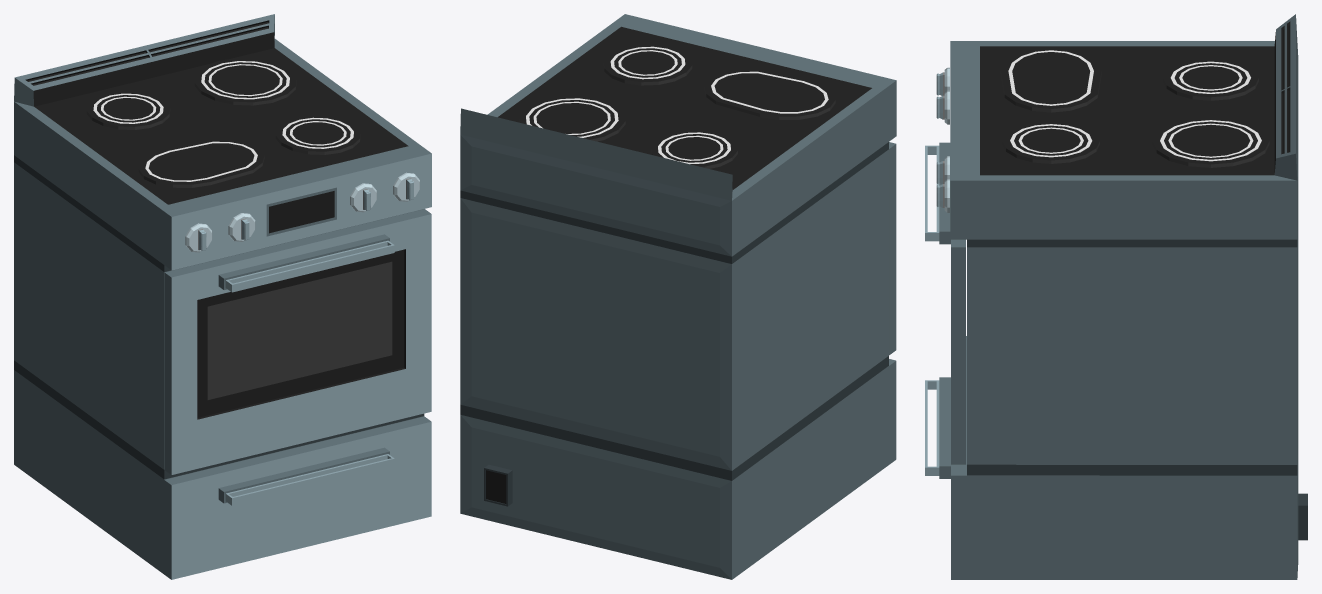
File: oven.glb
The picture shows the model from 3 angles, left to right: view 1: azimuth 30°, elevation 25°; view 2: azimuth 150°, elevation 25°; view 3: azimuth 270°, elevation 25°; orthographic projection. The views are drawn at different scales.
Parts seen in each view (by area): view 1: Stove; view 2: Stove; view 3: Stove.
Boxes of the visible parts, left/top/right/bottom form: Stove: left=14, top=14, right=431, bottom=579; Stove: left=460, top=14, right=896, bottom=579; Stove: left=925, top=14, right=1307, bottom=579.
Size of the model in its own units: 60 by 85.41 by 69.54.
1 material, 1 textured.
